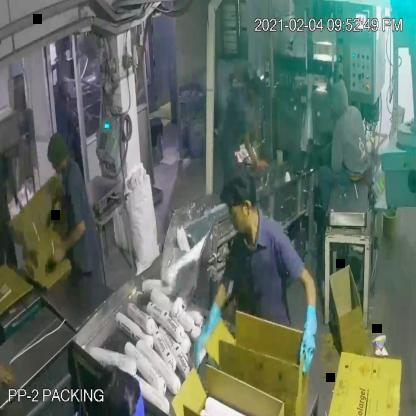glove: (184, 295, 230, 374), (296, 296, 322, 384)
no_glove: (47, 210, 88, 267), (238, 123, 274, 169)
